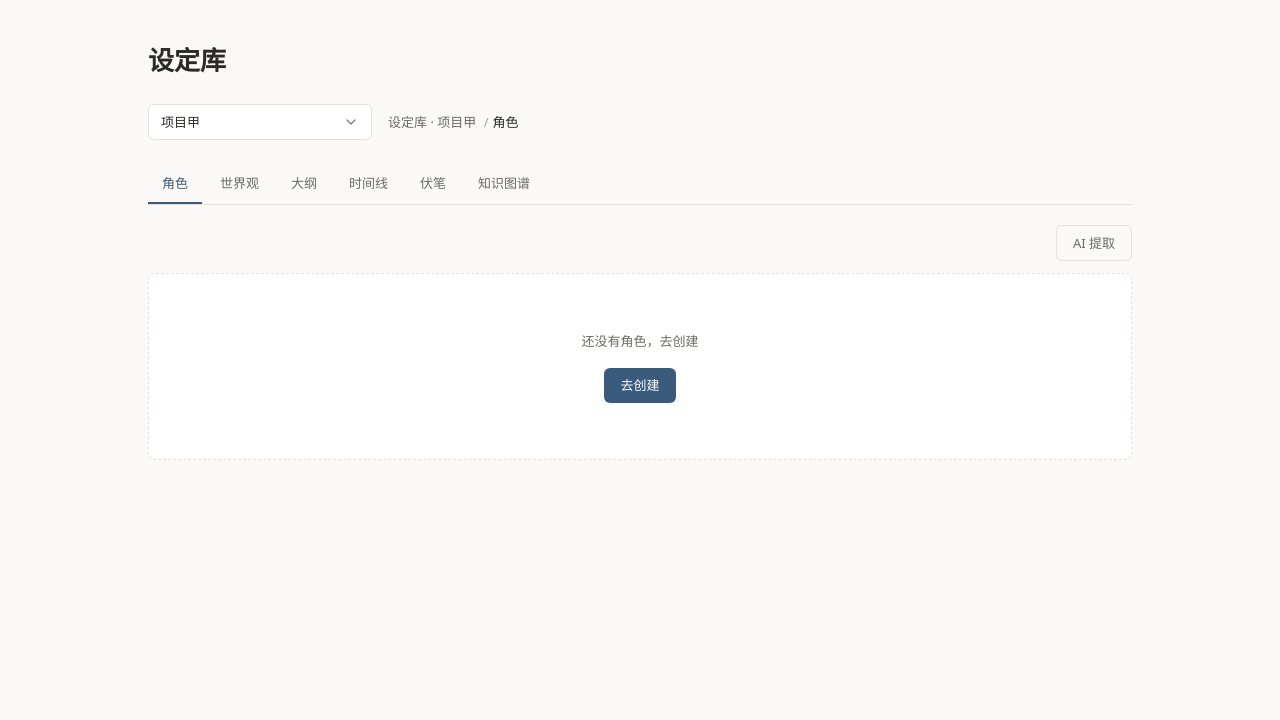
it: #378 地图工作台目录树 + 拖拽层级（世界观 tab，issue #378） › T1 目录树渲染层级：根图顶层、子图缩进递增、孙图更深，节点可选中
Click the tab "世界观". click: {"x": 240, "y": 184}
box: [206, 164, 273, 204]
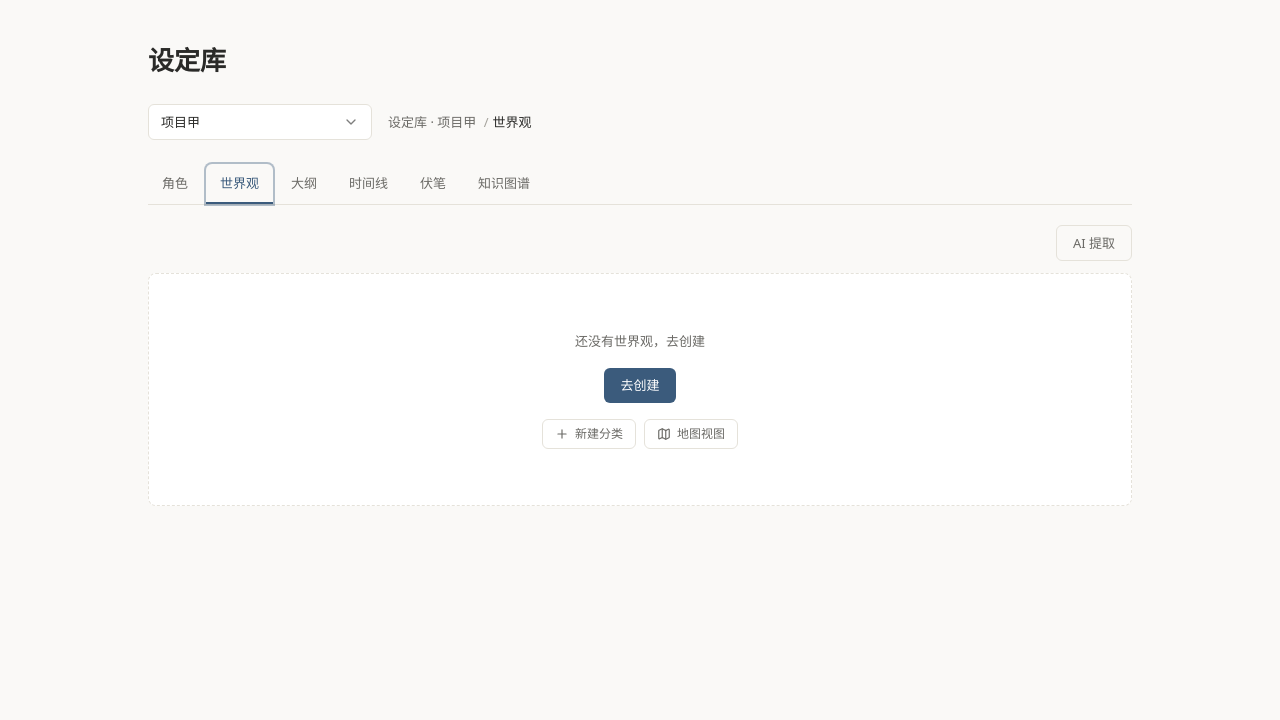
Result: the button with test id "map-view-entry" is shown
Click the button with test id "map-view-entry". click: {"x": 691, "y": 434}
box: [644, 419, 738, 449]
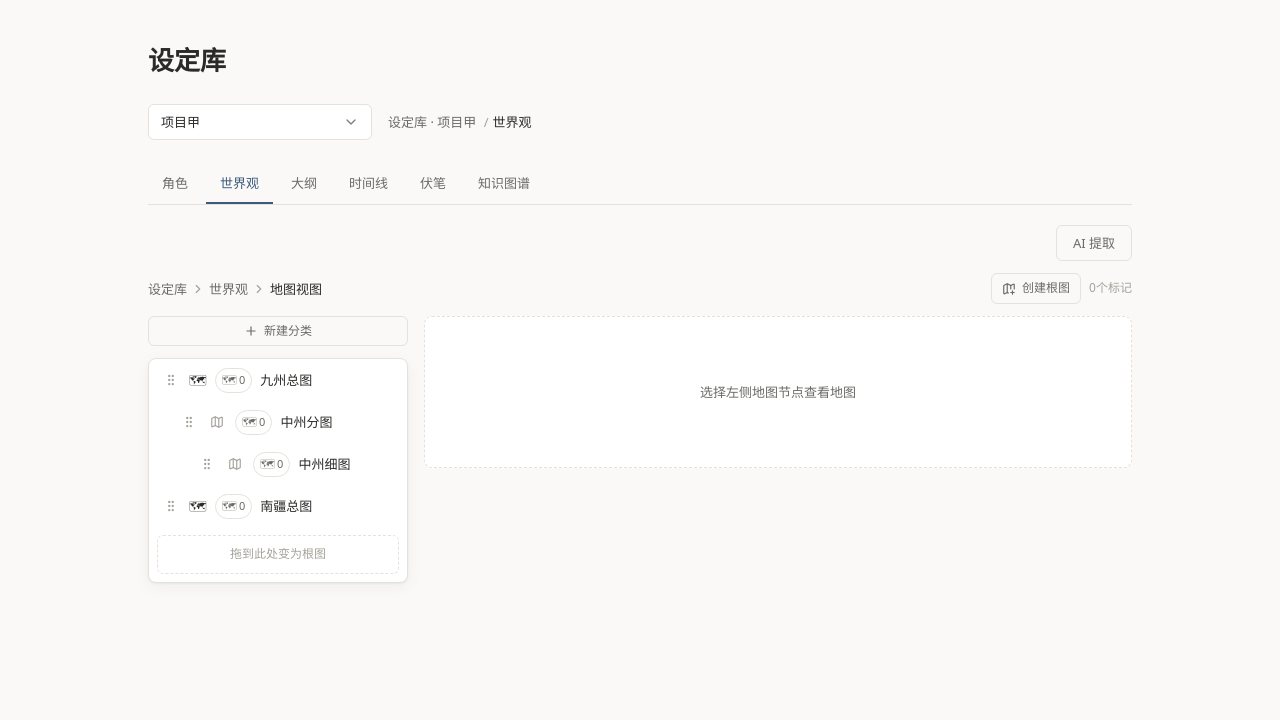
Result: the element with test id "map-workbench" is shown at [148, 273, 1132, 595]
Result: the element with test id "map-tree-node-root1" is shown at [164, 368, 312, 392]
Result: the element with test id "map-tree-node-child1" is shown
Click the element with test id "map-tree-node-child1". click: {"x": 257, "y": 422}
box: [182, 410, 332, 434]
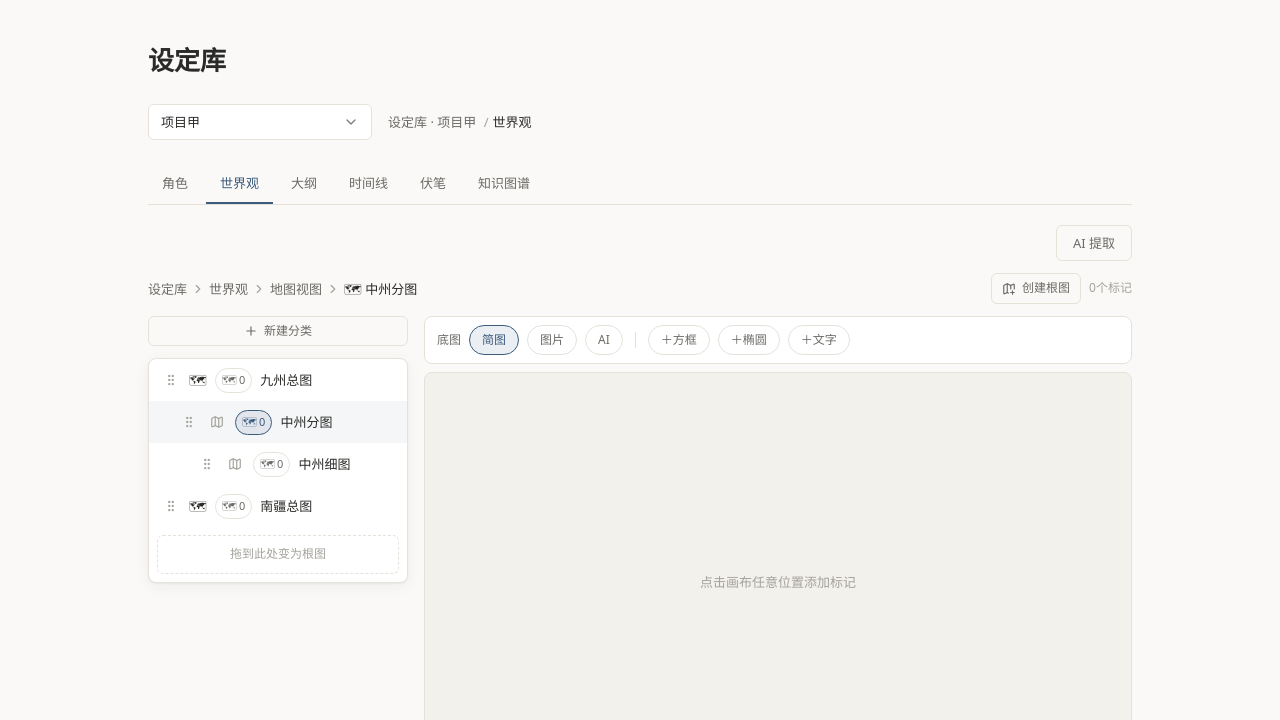
Result: the text with test id "map-bc-current" shows "中州分图" at [365, 280, 417, 298]
